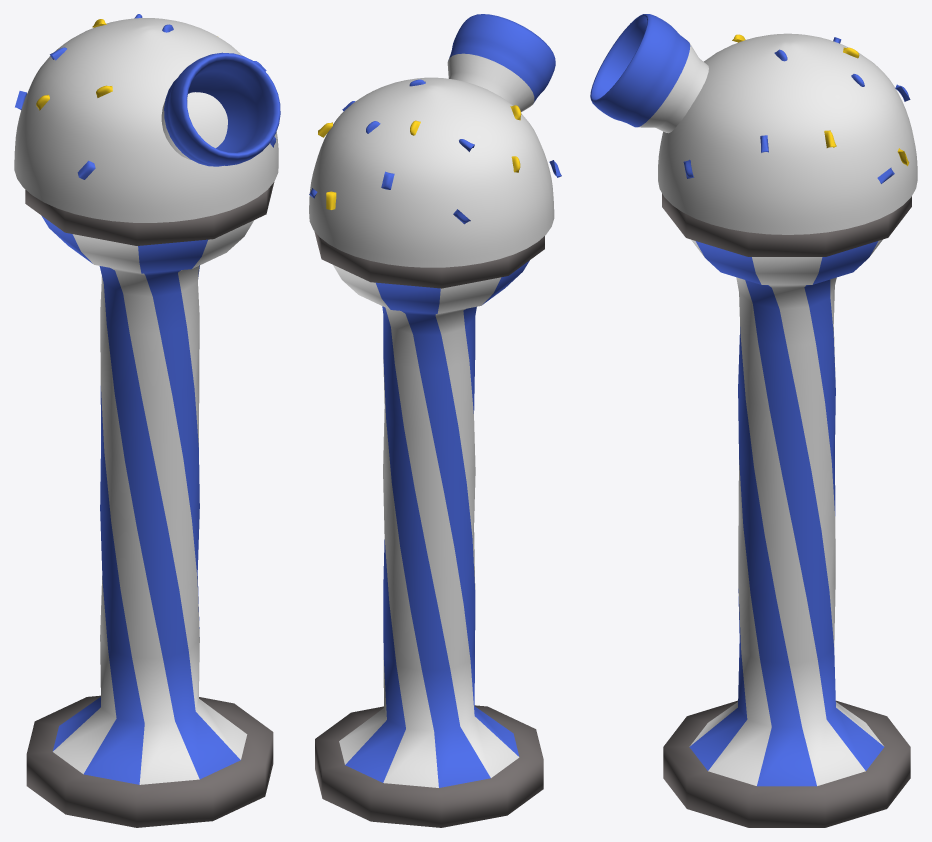
The picture shows the model from 3 angles, left to right: view 1: azimuth 30°, elevation 25°; view 2: azimuth 150°, elevation 25°; view 3: azimuth 270°, elevation 25°; orthographic projection. The views are drawn at different scales.
Parts seen in each view (by area): view 1: Cylinder.003, Cube.050; view 2: Cylinder.003, Cube.050; view 3: Cylinder.003, Cube.050.
Part boxes in pixels (x1,y1,x2,y2): Cylinder.003: (25, 182, 274, 827); Cube.050: (14, 14, 280, 222); Cylinder.003: (314, 231, 544, 827); Cube.050: (309, 14, 561, 267); Cylinder.003: (662, 193, 911, 827); Cube.050: (590, 14, 917, 234).
Size of the model in its own units: 91.95 by 296 by 116.
